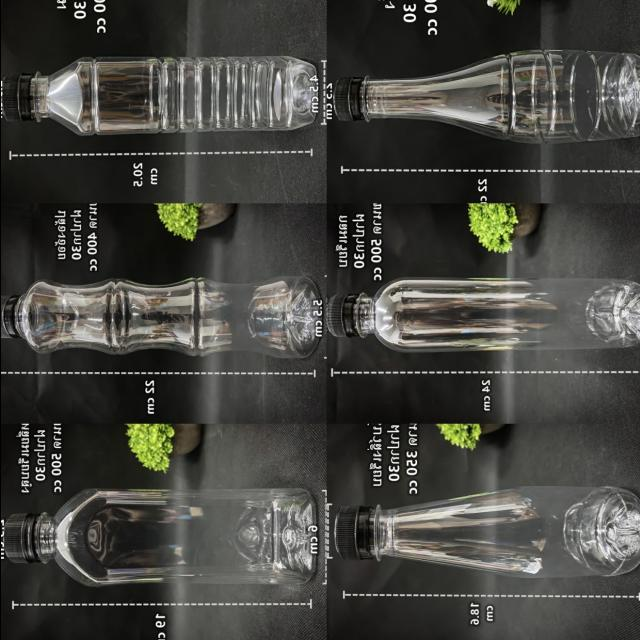plastik: (2, 488, 318, 586), (332, 50, 640, 143), (334, 487, 640, 578), (0, 277, 319, 357), (2, 57, 317, 135), (325, 279, 640, 352)
